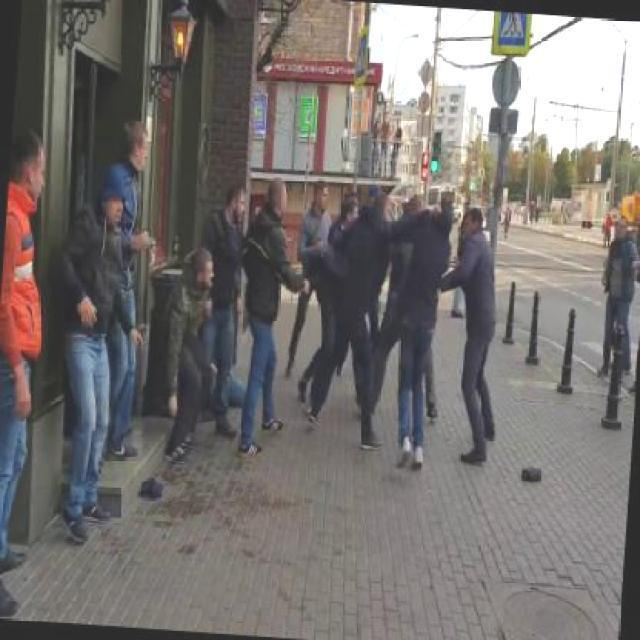fight: (304, 182, 456, 475)
non-fight: (39, 159, 152, 552), (0, 124, 55, 620), (224, 177, 318, 466), (590, 215, 638, 380)
